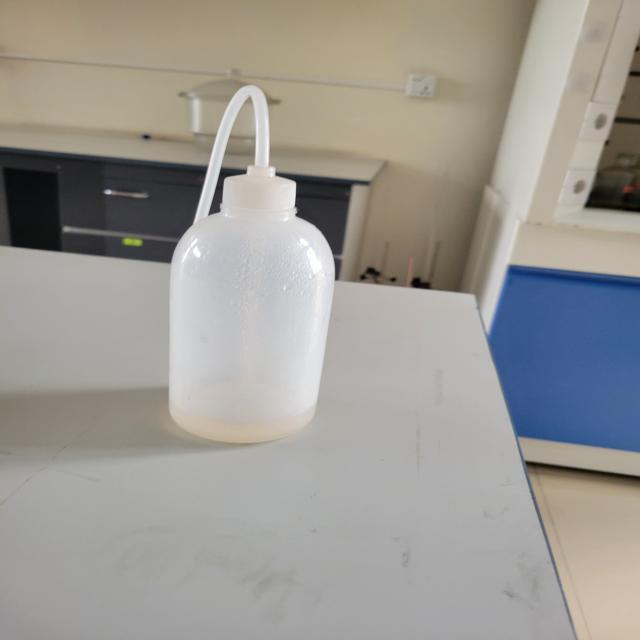Wash_Bottle: (148, 56, 377, 466)
